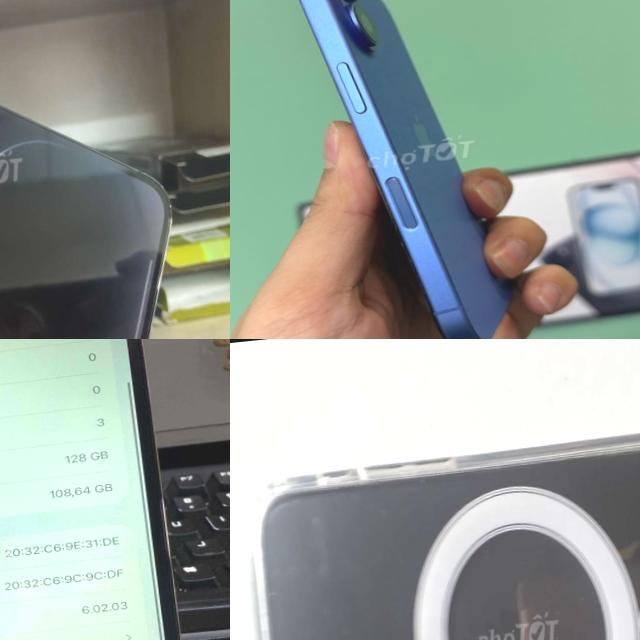gen_11: (230, 411, 640, 640)
gen_12_13: (0, 339, 221, 640)
gen_14: (0, 0, 199, 339)
gen_16: (298, 0, 511, 339)
